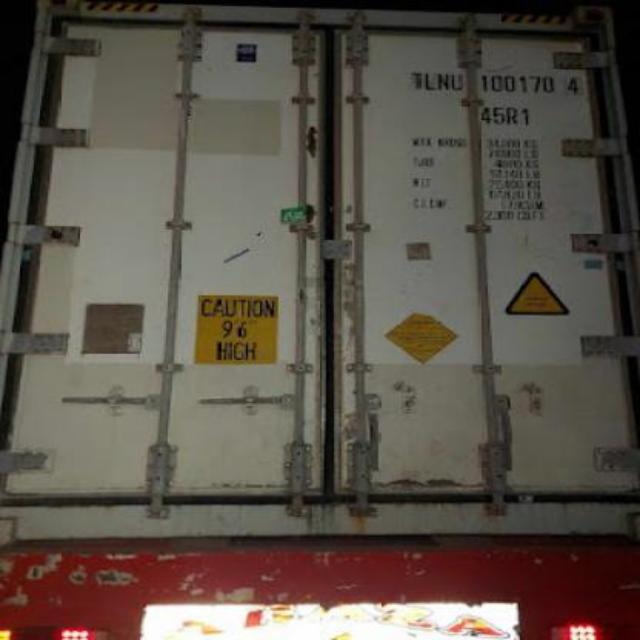0: (491, 73, 504, 93), (544, 75, 556, 95), (504, 73, 514, 93)
1: (518, 74, 530, 95), (480, 73, 490, 93)
4: (566, 75, 580, 95)
7: (530, 72, 542, 92)
L: (424, 69, 438, 95)
N: (436, 70, 452, 92)
T: (411, 70, 424, 90)
U: (451, 73, 464, 94)
